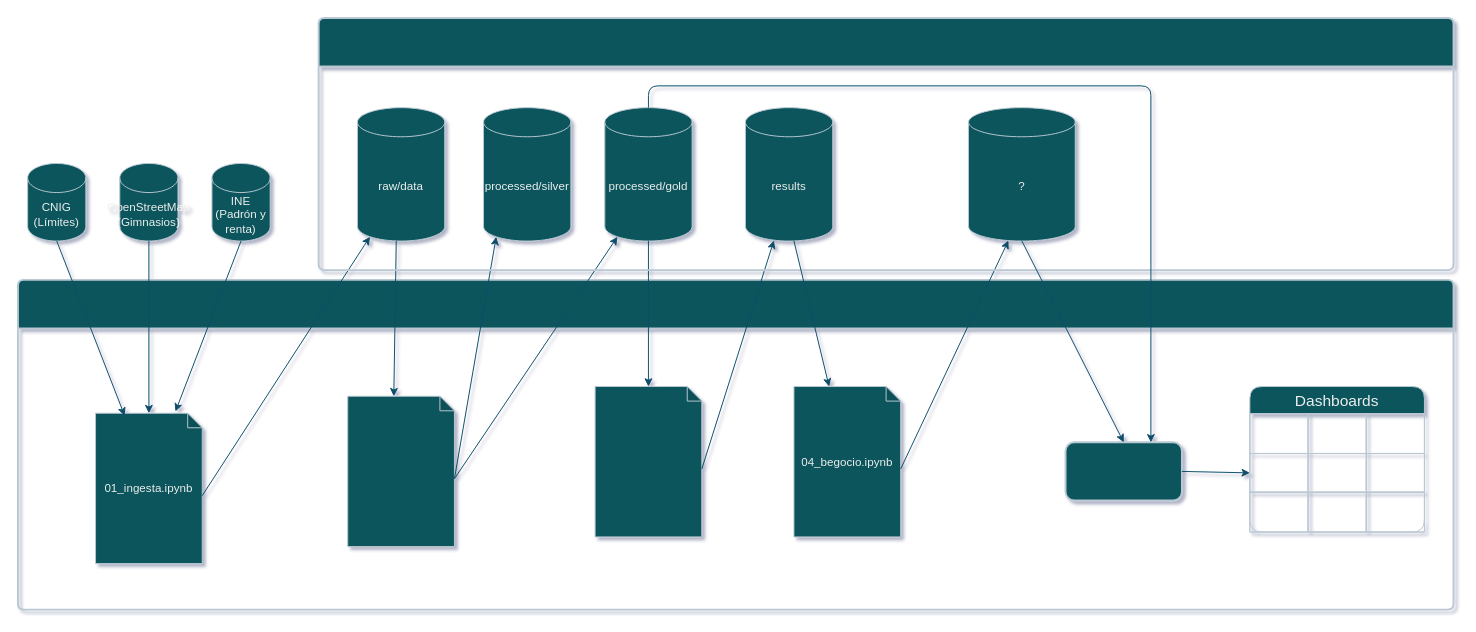
This 1476x632 diagram has some shape labels left out. Each missing label, with the box of its shape:
02_calidad.ipynb: (347, 395, 454, 547)
03_modelo.ipynb: (594, 386, 702, 537)
EC2: (16, 278, 1454, 610)
S3: (317, 16, 1454, 271)
STREAMLIT: (1064, 441, 1182, 501)
